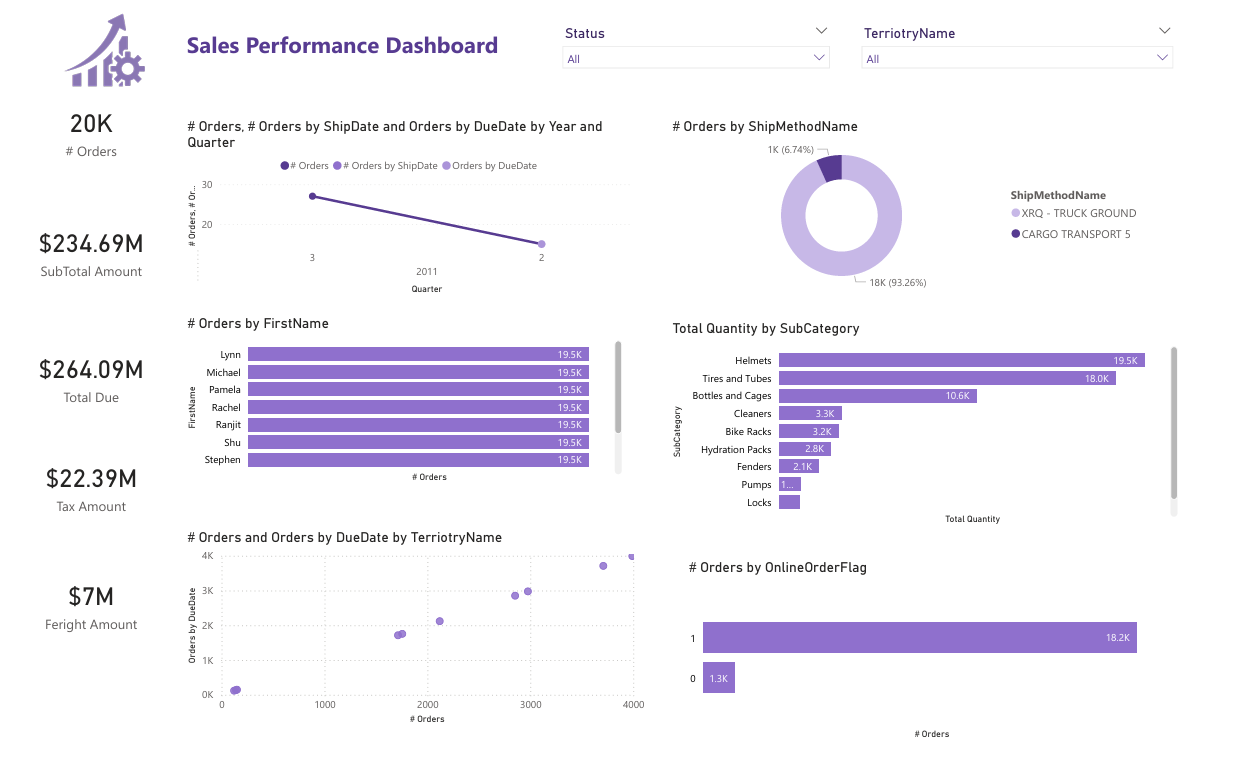

What the dashboard file says about the page in this screenshot:
{"tool":"powerbi","page":{"name":"Page 1","canvas":[1300,1000],"ordinal":0},"visuals":[{"type":"card","fields":{"Values":["Dax Measures (2).# Orders"]},"box":[30,136.7,160,120],"z":0},{"type":"card","fields":{"Values":["Dax Measures (2).SubTotal Amount"]},"box":[30,256.7,160,113.3],"z":1000},{"type":"card","fields":{"Values":["Dax Measures (2).Total Due"]},"box":[30,390,160,110],"z":2000},{"type":"card","fields":{"Values":["Dax Measures (2).Tax Amount"]},"box":[30,518.3,160,116.7],"z":3000},{"type":"card","fields":{"Values":["Dax Measures (2).Feright Amount"]},"box":[30,658.3,160,106.7],"z":4000},{"type":"donutChart","fields":{"Category":["ShipMethod.ShipMethodName"],"Y":["Dax Measures (2).# Orders"]},"box":[735,153.3,528.3,176.7],"z":6000},{"type":"clusteredColumnChart","fields":{"Category":["Product.Category Hierarchy.Category","Product.Category Hierarchy.SubCategory","Product.Category Hierarchy.Product"],"Y":["Dax Measures (2).Total Quantity"]},"box":[745,341.7,518.3,213.3],"z":7000},{"type":"clusteredBarChart","fields":{"Category":["FactSalesOrderDetail.OnlineOrderFlag"],"Y":["Dax Measures (2).# Orders"]},"box":[220,576.7,515,200],"z":8000},{"type":"scatterChart","fields":{"Category":["SalesTerritory.TerriotryName"],"X":["Dax Measures (2).# Orders"],"Y":["Dax Measures (2).# Orders by DueDate"]},"box":[735,576.7,506.7,200],"z":9000},{"type":"clusteredBarChart","fields":{"Category":["vSalesPerson.FirstName"],"Y":["Dax Measures (2).# Orders"]},"box":[220,396.7,486.7,205],"z":10000},{"type":"slicer","fields":{"Values":["SalesTerritory.TerriotryName"]},"box":[905,53.3,358.3,60],"z":11000},{"type":"slicer","fields":{"Values":["Status.Status"]},"box":[568.3,53.3,331.7,60],"z":12000},{"type":"textbox","box":[15,65,435,60],"z":13000},{"type":"lineChart","fields":{"Category":["Date.Date Hierarchy.Year"],"Y":["Dax Measures (2).# Orders","Dax Measures (2).# Orders by ShipDate","Dax Measures (2).Orders by DueDate"]},"box":[206.7,136.7,500,238.3],"z":13001}]}

Visuals, with their boxes on the page's 1300x1000 design canvas (x1, y1, x2, y2). These are canvas units, not pixel positions in the 1242x777 screenshot, which may show the page scaled, cropped or inside an application window:
card - Dax Measures (2).# Orders: <box>30,137,190,257</box>
card - Dax Measures (2).SubTotal Amount: <box>30,257,190,370</box>
card - Dax Measures (2).Total Due: <box>30,390,190,500</box>
card - Dax Measures (2).Tax Amount: <box>30,518,190,635</box>
card - Dax Measures (2).Feright Amount: <box>30,658,190,765</box>
donutChart - ShipMethod.ShipMethodName x Dax Measures (2).# Orders: <box>735,153,1263,330</box>
clusteredColumnChart - Product.Category Hierarchy.Category x Product.Category Hierarchy.SubCategory: <box>745,342,1263,555</box>
clusteredBarChart - FactSalesOrderDetail.OnlineOrderFlag x Dax Measures (2).# Orders: <box>220,577,735,777</box>
scatterChart - SalesTerritory.TerriotryName x Dax Measures (2).# Orders: <box>735,577,1242,777</box>
clusteredBarChart - vSalesPerson.FirstName x Dax Measures (2).# Orders: <box>220,397,707,602</box>
slicer - SalesTerritory.TerriotryName: <box>905,53,1263,113</box>
slicer - Status.Status: <box>568,53,900,113</box>
textbox: <box>15,65,450,125</box>
lineChart - Date.Date Hierarchy.Year x Dax Measures (2).# Orders: <box>207,137,707,375</box>
